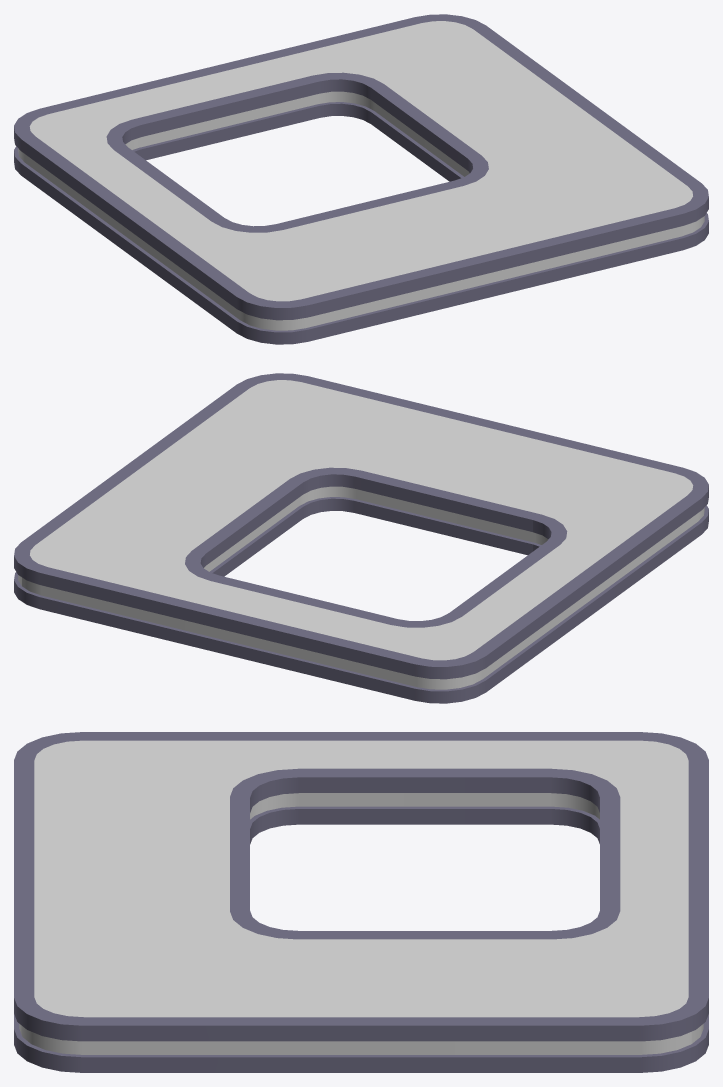
File: env_undergroundstation_concreteplatform04.fbx
The picture shows the model from 3 angles, top to bottom: view 1: azimuth 30°, elevation 25°; view 2: azimuth 150°, elevation 25°; view 3: azimuth 270°, elevation 25°; orthographic projection. The views are drawn at different scales.
Parts seen in each view (by area): view 1: env_undergroundstation_concreteplatform04; view 2: env_undergroundstation_concreteplatform04; view 3: env_undergroundstation_concreteplatform04.
Boxes of the visible parts, box(x1,y1,x2,y2) form: env_undergroundstation_concreteplatform04: box(14, 14, 708, 344); env_undergroundstation_concreteplatform04: box(14, 373, 708, 703); env_undergroundstation_concreteplatform04: box(14, 732, 708, 1072).
Bounding box in the file's own units: 160 × 12 × 160.
